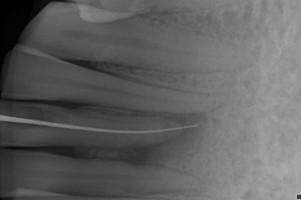Furcation Involvement: (114, 112, 209, 166)
